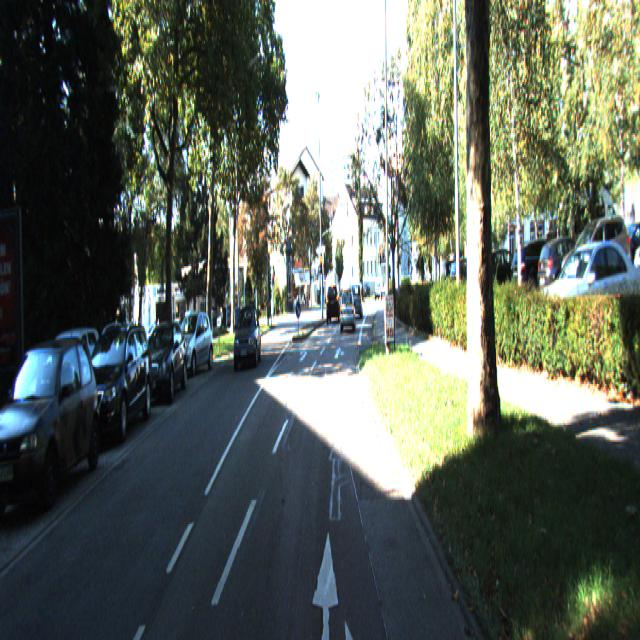Car: (0, 337, 101, 536), (70, 325, 154, 457), (139, 323, 188, 406), (170, 313, 214, 378), (233, 306, 261, 368), (340, 292, 355, 334)
